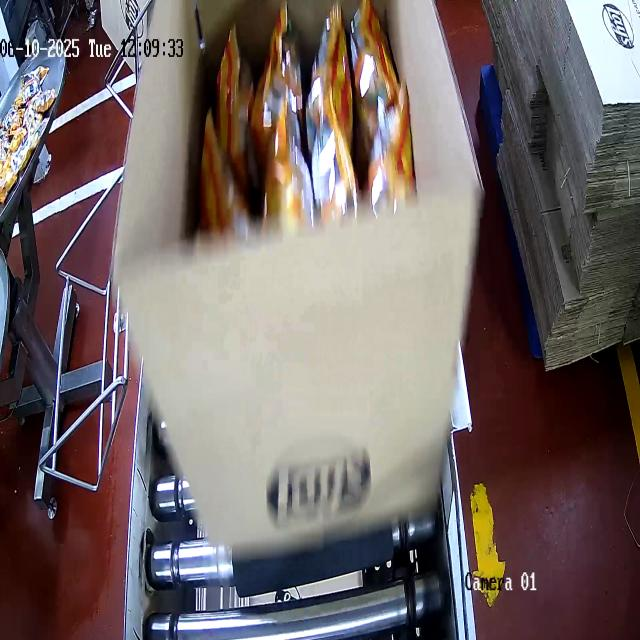FRENCH_CHEESE: (201, 0, 410, 231)
